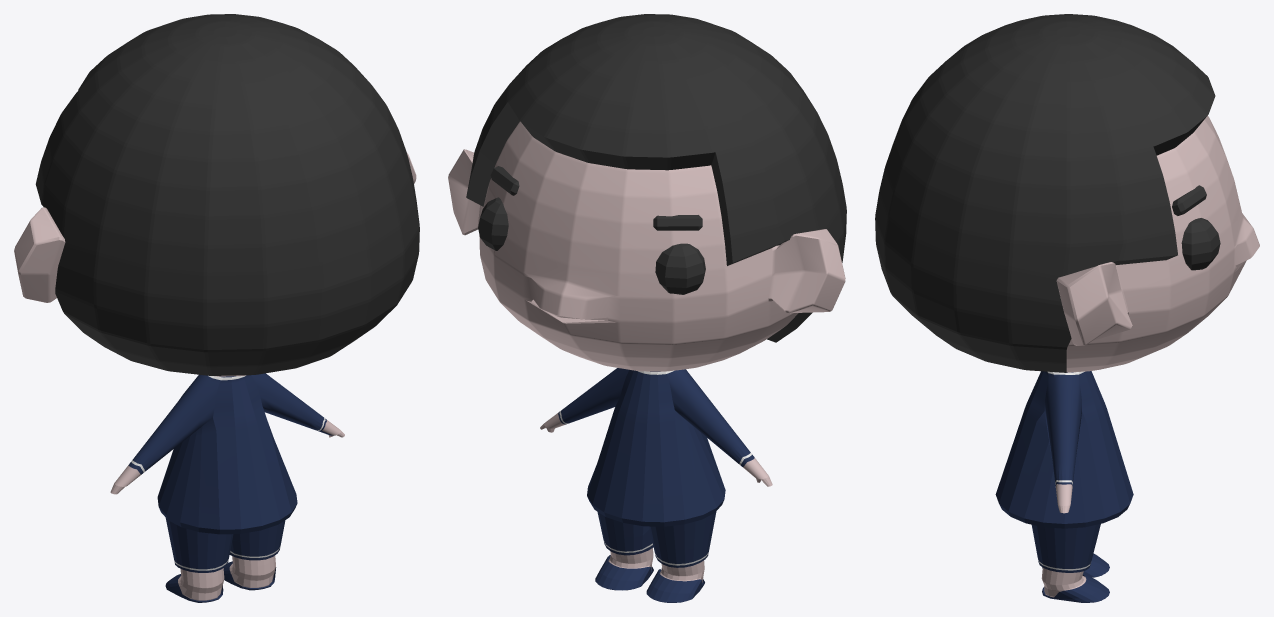
Rendered from player.fbx.
3 views of the same model, side by side, from view 1: azimuth 30°, elevation 25°; view 2: azimuth 150°, elevation 25°; view 3: azimuth 270°, elevation 25° (orthographic).
Visible parts, largest first — view 1: polySurface14, polySurface3, polySurface20, polySurface13; view 2: polySurface13, polySurface14, polySurface3, polySurface20, polySurface6, polySurface7, polySurface18, polySurface19, polySurface11; view 3: polySurface14, polySurface13, polySurface3, polySurface20, polySurface7, polySurface18, polySurface12.
Boxes of the visible parts, <box> form: polySurface14: <box>35,14,419,375</box>; polySurface3: <box>110,373,344,534</box>; polySurface20: <box>165,518,285,600</box>; polySurface13: <box>14,153,416,376</box>; polySurface13: <box>448,121,845,371</box>; polySurface14: <box>466,14,846,342</box>; polySurface3: <box>540,368,772,526</box>; polySurface20: <box>597,511,716,582</box>; polySurface6: <box>655,243,705,294</box>; polySurface7: <box>478,197,508,250</box>; polySurface18: <box>595,555,653,590</box>; polySurface19: <box>646,569,704,602</box>; polySurface11: <box>653,215,702,230</box>; polySurface14: <box>875,14,1215,372</box>; polySurface13: <box>1056,115,1259,372</box>; polySurface3: <box>995,371,1133,528</box>; polySurface20: <box>1031,524,1100,597</box>; polySurface7: <box>1181,218,1220,270</box>; polySurface18: <box>1042,574,1109,602</box>; polySurface12: <box>1172,185,1206,215</box>.
Size of the model in its own units: 15.56 by 20.82 by 13.24.
